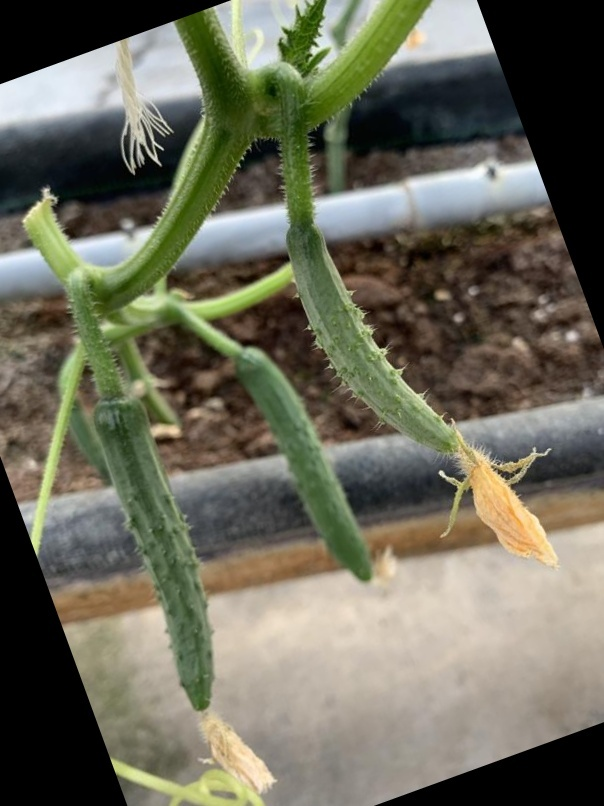growth: (277, 216, 554, 557), (87, 394, 239, 739), (228, 344, 379, 584)
